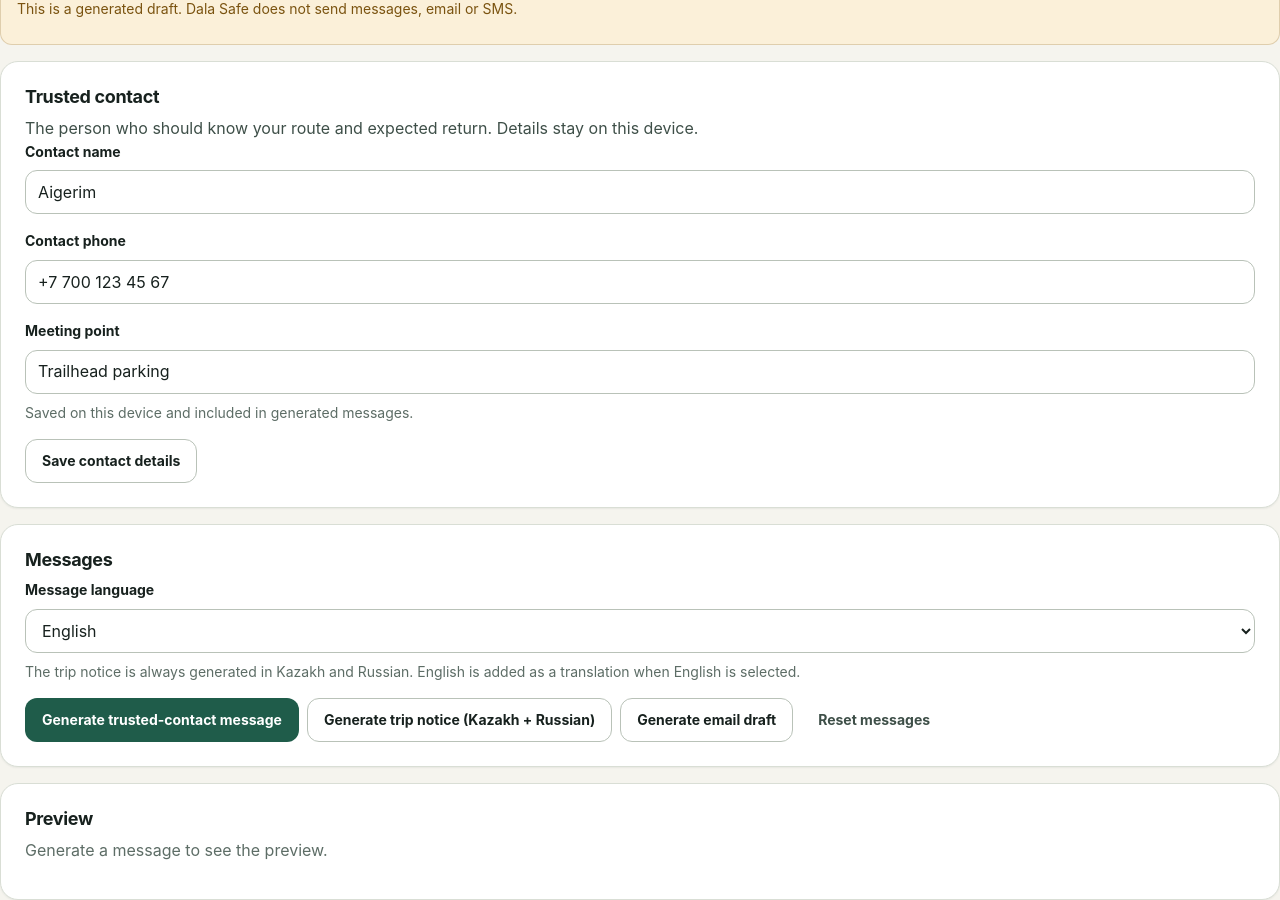
Test: SharePage › builds an email draft and exposes a mailto link only after generation
(page scrolled)
Expected: the link "Open email draft" is not shown
Click the button "Generate email draft".
click(707, 720)  # box [620,698,793,742]
(page scrolled)
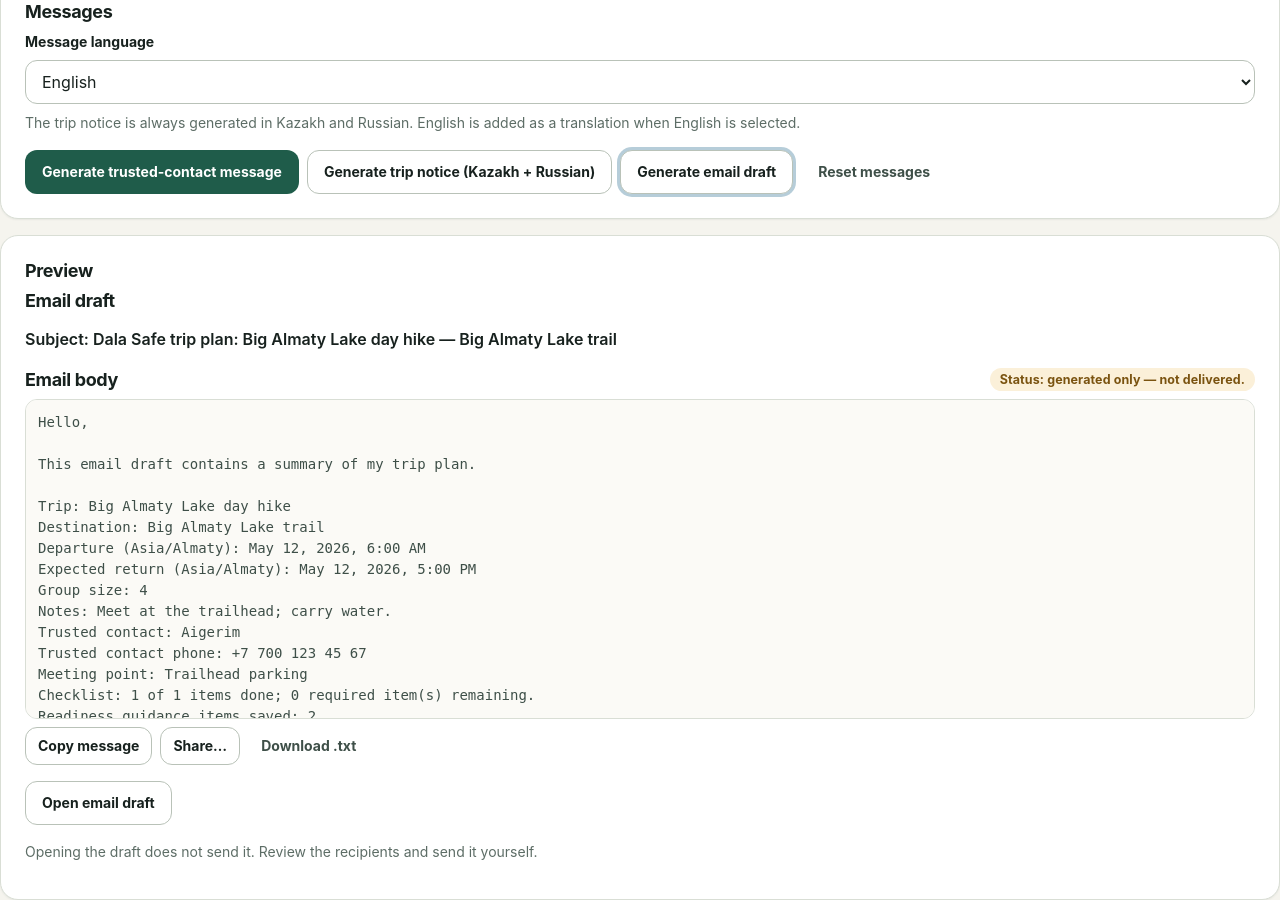
Now the text "Subject: Dala Safe trip plan:" is shown, box [25,329,617,349]
Now the text "Opening the draft does not send it" is shown, box [25,843,538,860]
Now the text with class "sharing-preview" shows "Generated only — not delivered", box [38,414,1193,808]
